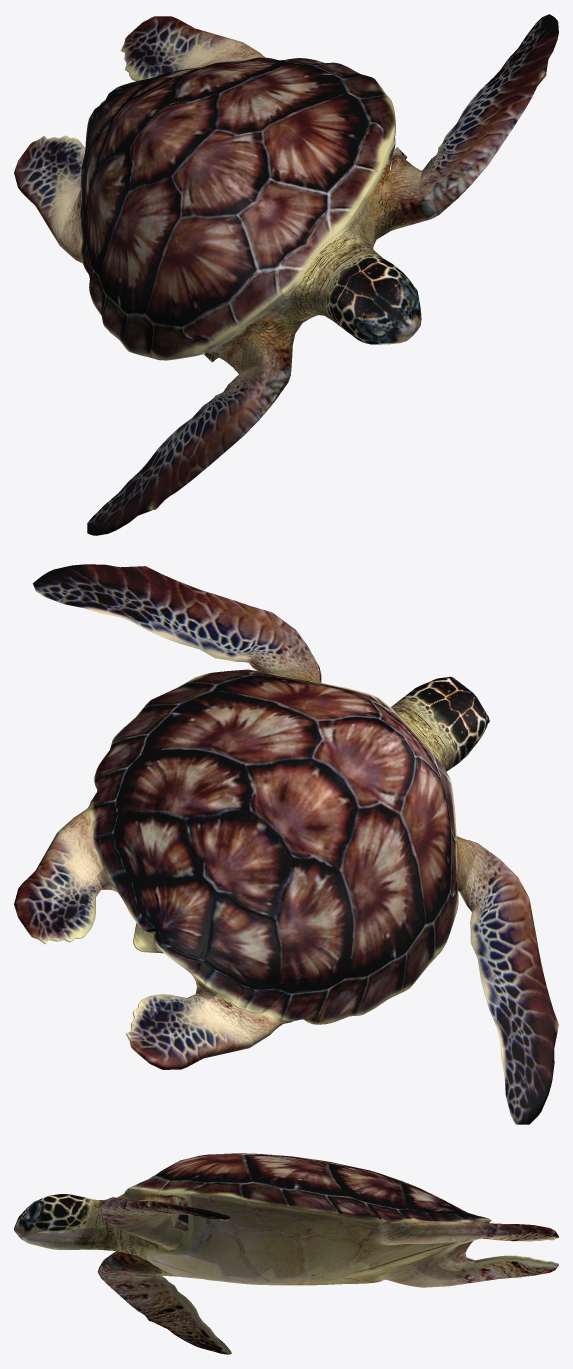
Rendered from tortuga.obj.
3 renders of one model, top to bottom at view 1: azimuth 30°, elevation 25°; view 2: azimuth 150°, elevation 25°; view 3: azimuth 270°, elevation 25°, orthographic. The views are drawn at different scales.
Parts seen in each view (by area): view 1: polySurface535; view 2: polySurface535; view 3: polySurface535.
Boxes of the visible parts, left/top/right/bottom form: polySurface535: left=14, top=14, right=558, bottom=535; polySurface535: left=14, top=564, right=558, bottom=1124; polySurface535: left=14, top=1153, right=558, bottom=1354.
Size of the model in its own units: 0.2041 by 0.1698 by 0.2641.
Materials: 1 (1 with a texture image).
